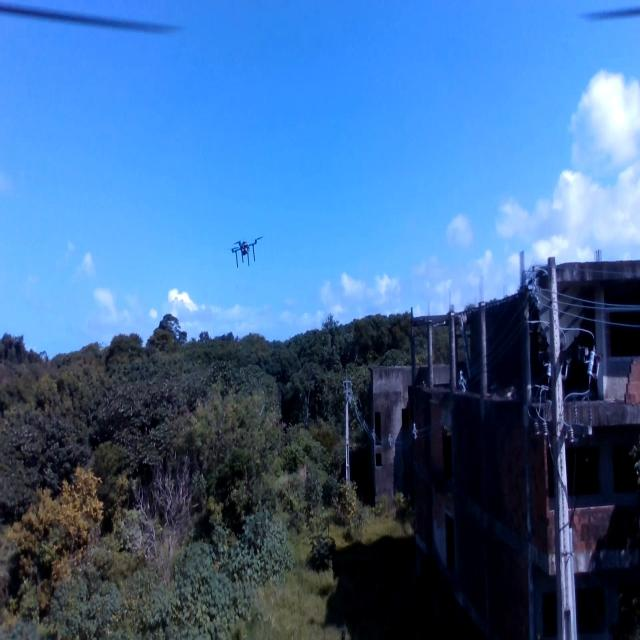-uav-: (228, 234, 268, 276)
